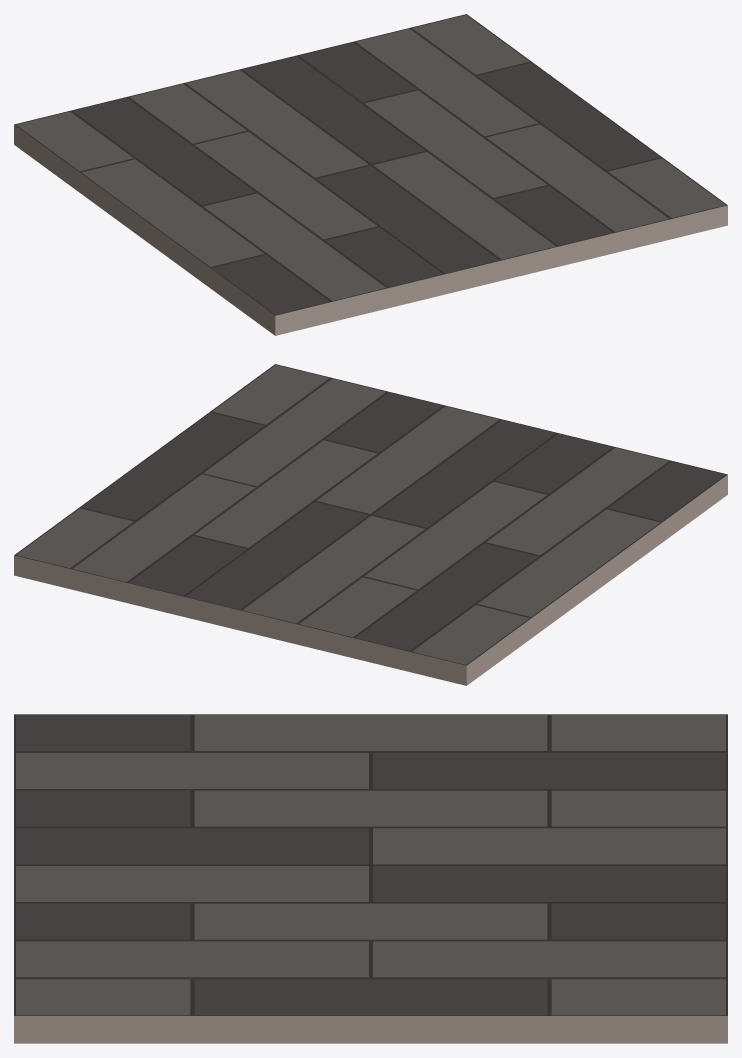
File: Floor_02.fbx
3 renders of one model, top to bottom at view 1: azimuth 30°, elevation 25°; view 2: azimuth 150°, elevation 25°; view 3: azimuth 270°, elevation 25°, orthographic. The views are drawn at different scales.
Visible parts, largest first — view 1: Floor_02; view 2: Floor_02; view 3: Floor_02.
Part boxes in pixels (x1,y1,x2,y2): Floor_02: (14, 14, 727, 335); Floor_02: (14, 364, 727, 685); Floor_02: (14, 714, 727, 1043).
Size of the model in its own units: 259 by 11.07 by 259.
